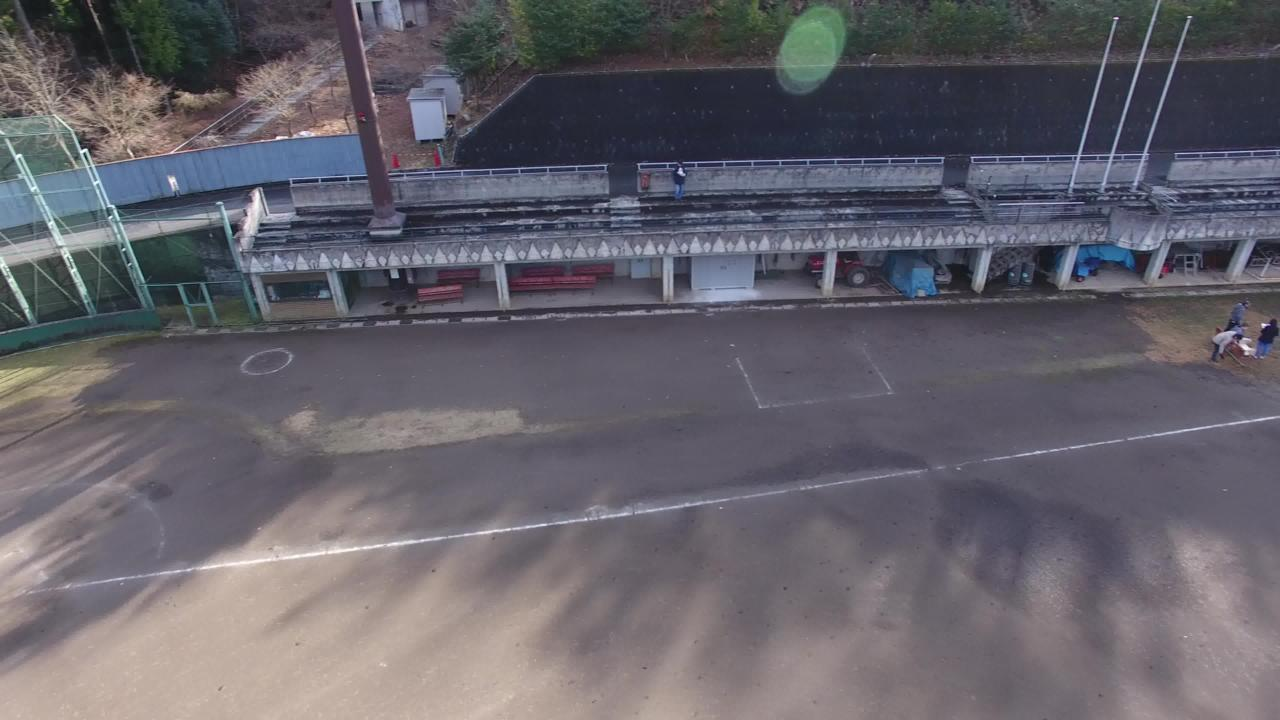person: (657, 154, 699, 210), (1210, 324, 1242, 373), (1246, 319, 1278, 368), (1220, 292, 1252, 341)
